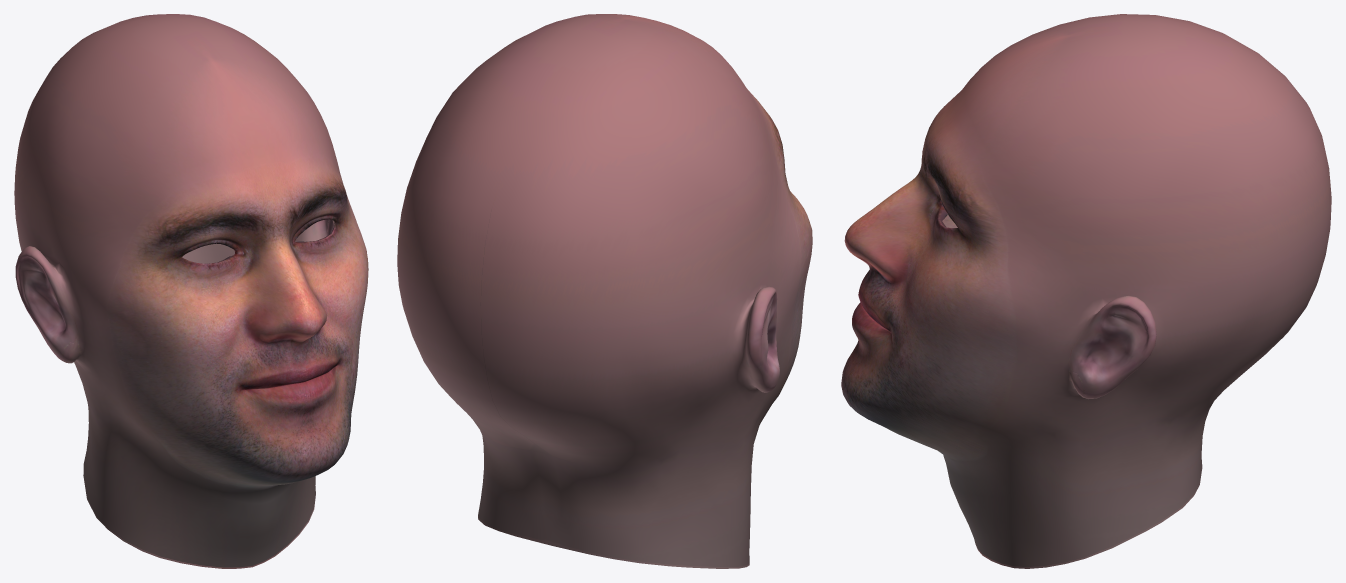
3 renders of one model, left to right at view 1: azimuth 30°, elevation 25°; view 2: azimuth 150°, elevation 25°; view 3: azimuth 270°, elevation 25°, orthographic. The views are drawn at different scales.
Visible parts, largest first — view 1: FaceGen; view 2: FaceGen; view 3: FaceGen.
Boxes of the visible parts, left/top/right/bottom form: FaceGen: left=14, top=14, right=368, bottom=568; FaceGen: left=397, top=14, right=812, bottom=568; FaceGen: left=841, top=14, right=1331, bottom=568.
Bounding box in the file's own units: 189 × 282 × 242.
1 material, 1 textured.
